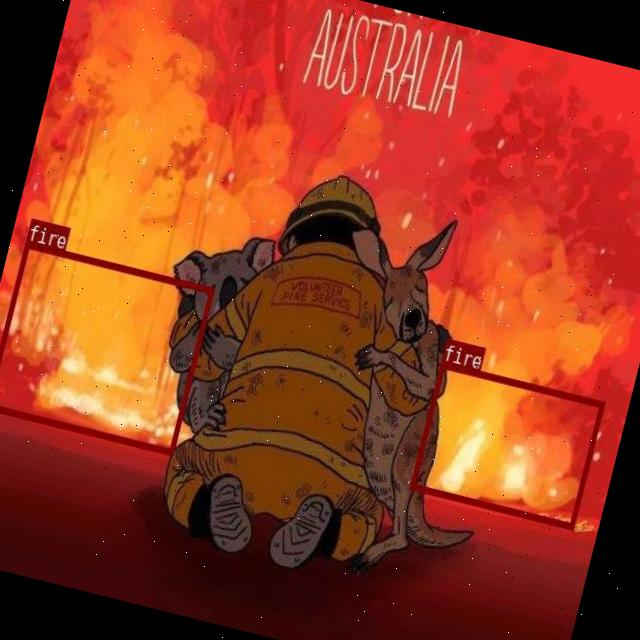fire: (0, 240, 214, 454), (408, 359, 604, 528)
